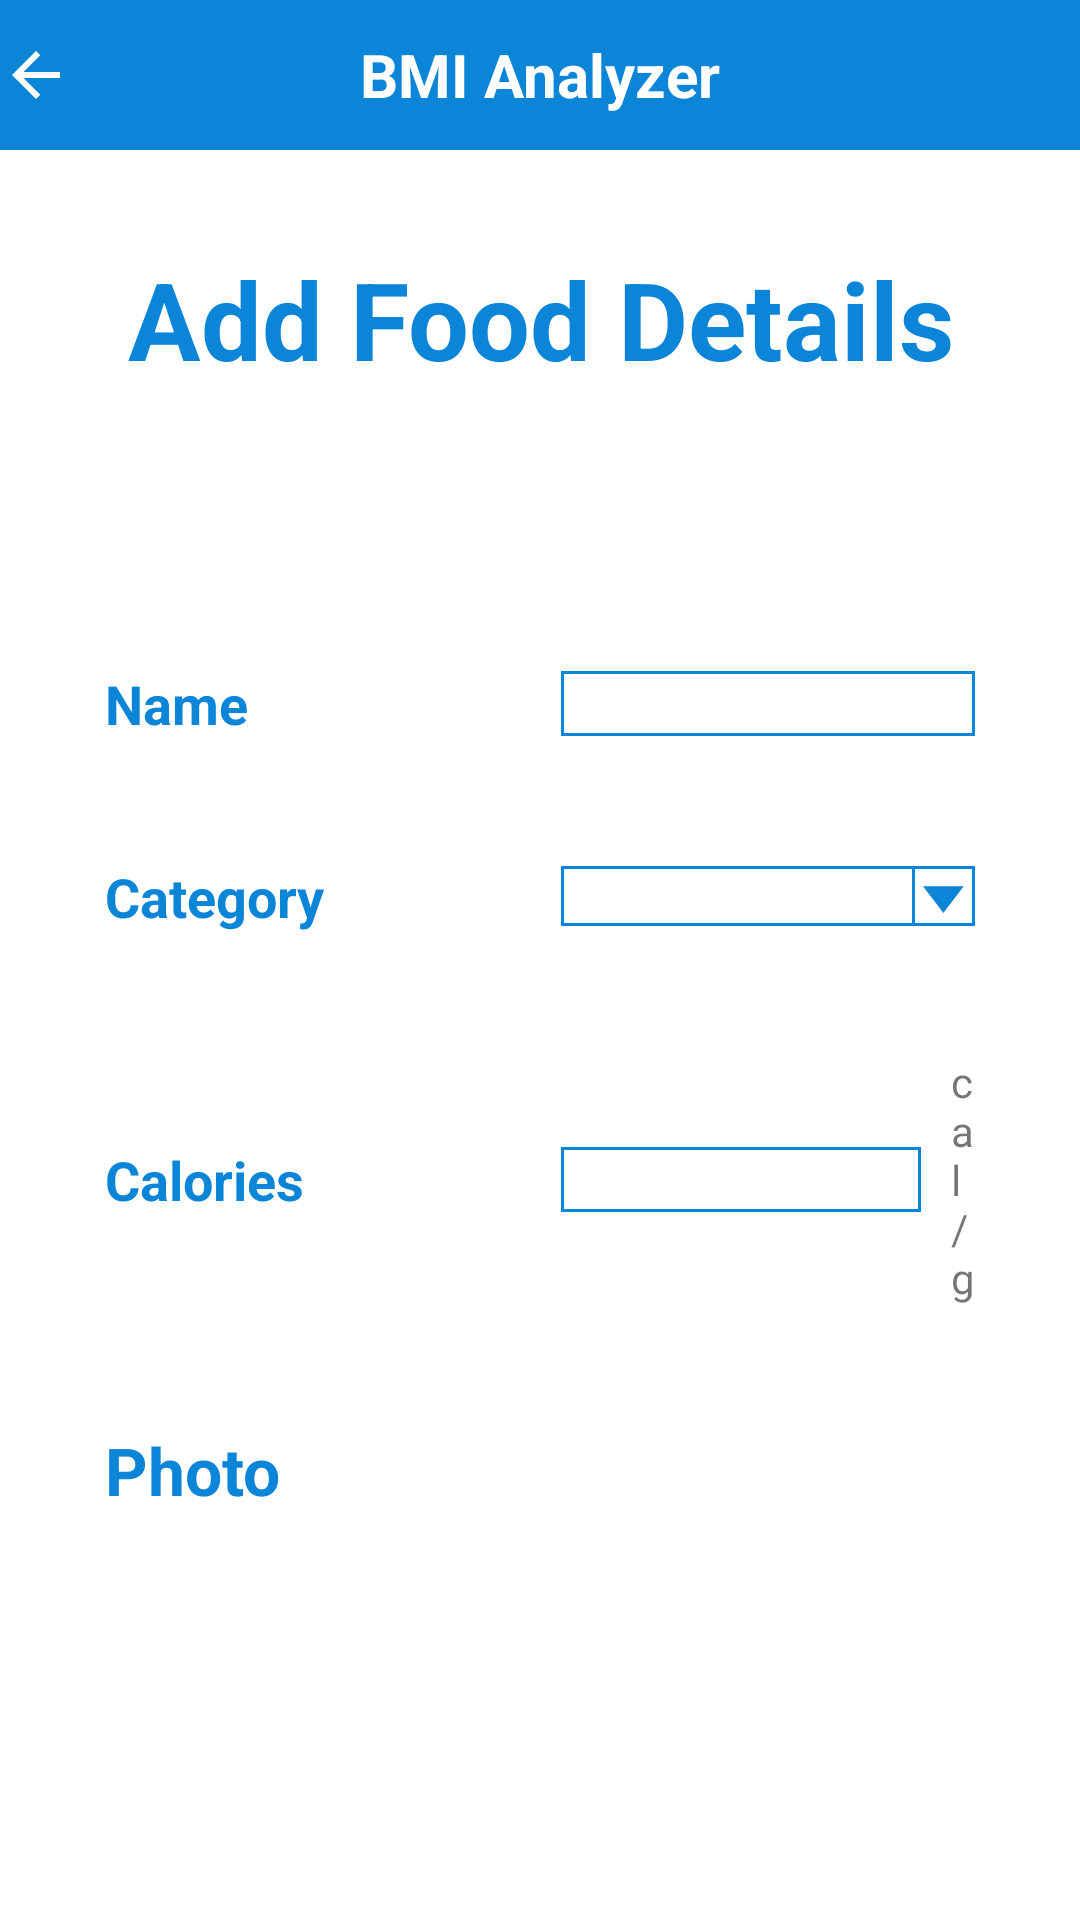

Where icons sit on this 1080 × 1920 app screen, as (x1, y1, x2, y2):
back arrow: (12, 51, 60, 99)
